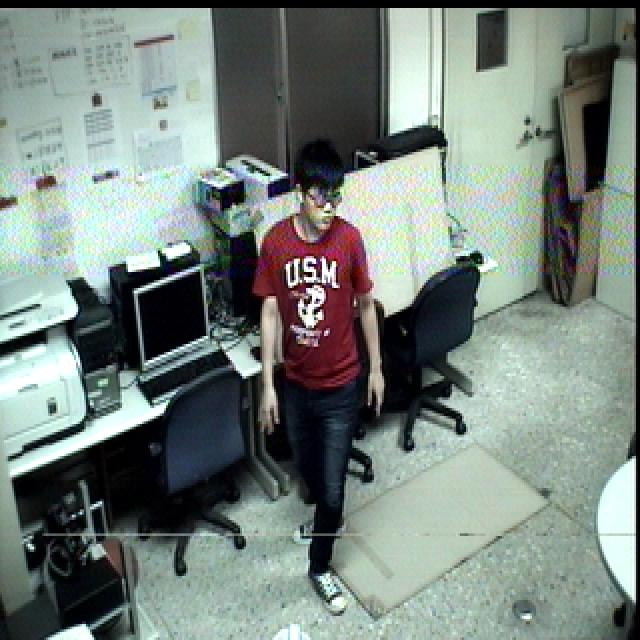stand: (250, 134, 388, 620)
